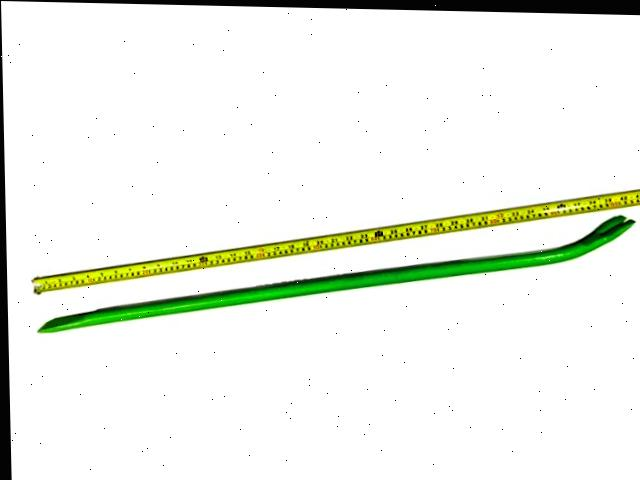crow bar: (36, 206, 637, 335)
